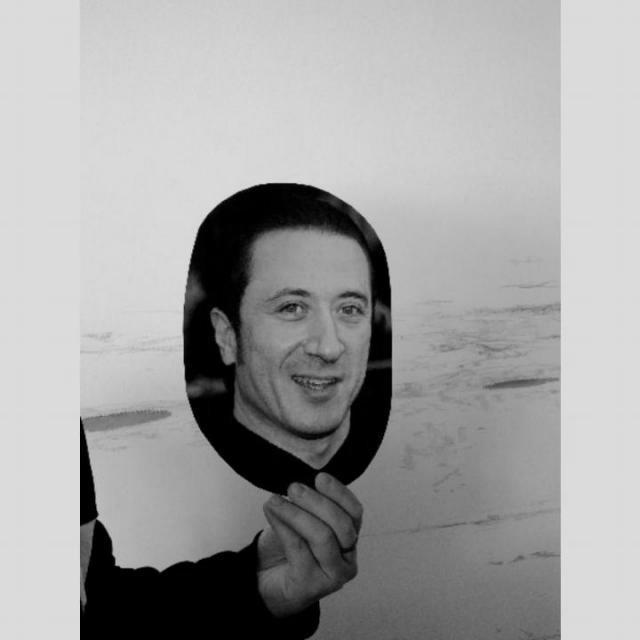fake: (172, 172, 399, 504)
